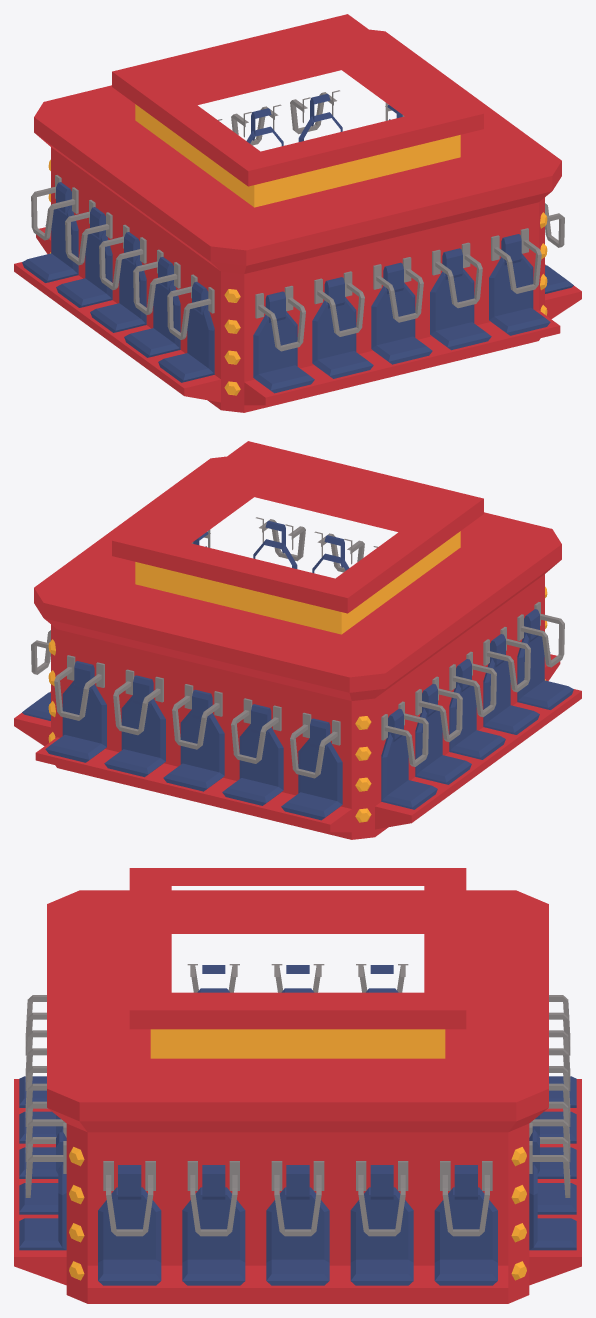
The model's file is free-fall-seats.glb.
3 renders of one model, top to bottom at view 1: azimuth 30°, elevation 25°; view 2: azimuth 150°, elevation 25°; view 3: azimuth 270°, elevation 25°, orthographic. The views are drawn at different scales.
Visible parts, largest first — view 1: free-fall-seats; view 2: free-fall-seats; view 3: free-fall-seats.
Part boxes in pixels (bbox=[...]): free-fall-seats: bbox=[14, 14, 581, 412]; free-fall-seats: bbox=[14, 441, 581, 839]; free-fall-seats: bbox=[14, 868, 581, 1303].
Bounding box in the file's own units: 5.4 × 2.8 × 5.4.
Materials: 1 (1 with a texture image).
